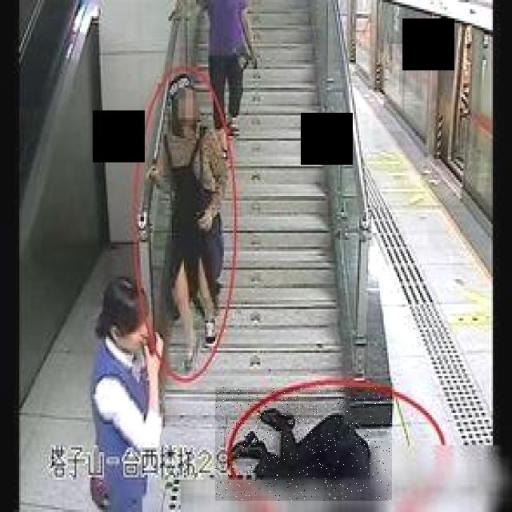Fall: (215, 387, 392, 501)
